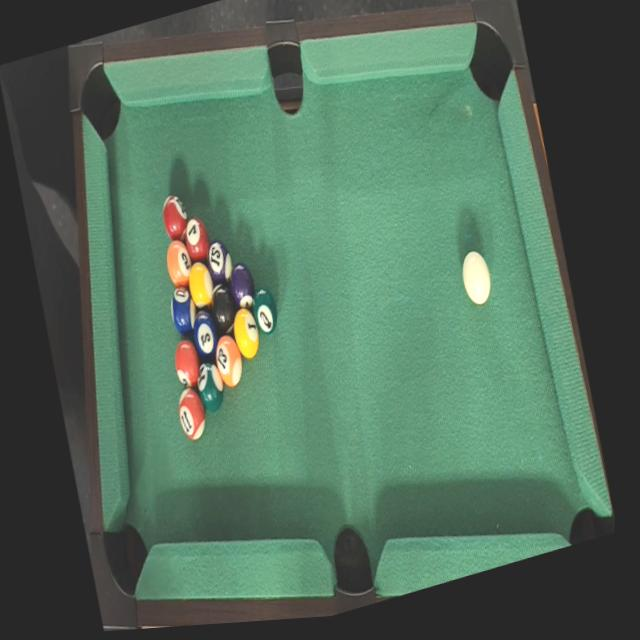cue ball: (452, 242, 498, 316)
other: (182, 347, 232, 422), (207, 325, 250, 395), (164, 333, 210, 396), (178, 254, 223, 318), (157, 233, 200, 299), (221, 252, 264, 317), (175, 210, 217, 274), (154, 187, 198, 248), (170, 384, 211, 449), (225, 306, 265, 367), (186, 306, 224, 368), (161, 282, 201, 337), (200, 235, 238, 290), (204, 279, 241, 335), (247, 287, 282, 342)
